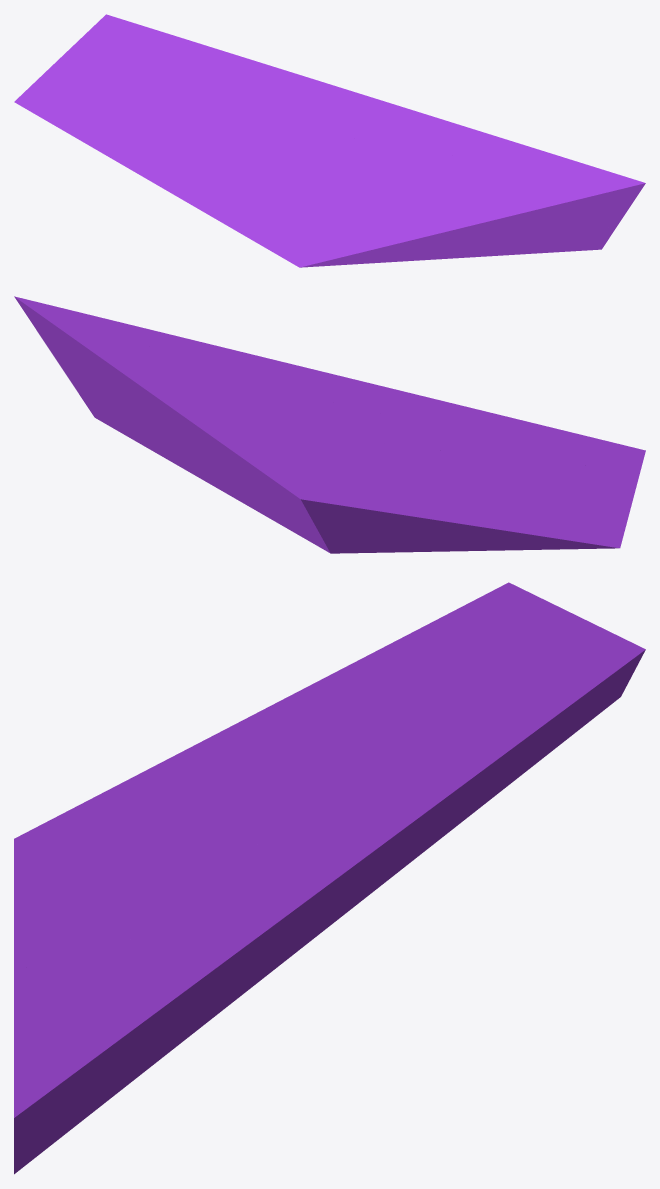
The model's file is Window_164_3_chunks.fbx.
3 renders of one model, top to bottom at view 1: azimuth 30°, elevation 25°; view 2: azimuth 150°, elevation 25°; view 3: azimuth 270°, elevation 25°, orthographic. The views are drawn at different scales.
Visible parts, largest first — view 1: Window_164_3_0, Window_164_3_1, Window_164_3_3, Window_164_3_8, Window_164_3_6, Window_164_3_2, Window_164_3_5, Window_164_3_9; view 2: Window_164_3_0, Window_164_3_1, Window_164_3_3, Window_164_3_2, Window_164_3_6, Window_164_3_5, Window_164_3_8, Window_164_3_9; view 3: Window_164_3_0, Window_164_3_1, Window_164_3_3, Window_164_3_2, Window_164_3_6, Window_164_3_5, Window_164_3_8, Window_164_3_9.
Part boxes in pixels (x1,y1,x2,y2): Window_164_3_0: [14, 14, 307, 148]; Window_164_3_1: [293, 73, 645, 249]; Window_164_3_3: [240, 131, 366, 267]; Window_164_3_8: [459, 175, 629, 257]; Window_164_3_6: [322, 181, 462, 266]; Window_164_3_2: [90, 146, 272, 233]; Window_164_3_5: [305, 129, 547, 183]; Window_164_3_9: [406, 172, 554, 207]; Window_164_3_0: [201, 429, 626, 553]; Window_164_3_1: [14, 296, 314, 509]; Window_164_3_3: [323, 412, 645, 470]; Window_164_3_2: [403, 446, 640, 522]; Window_164_3_6: [304, 376, 601, 439]; Window_164_3_5: [112, 335, 366, 431]; Window_164_3_8: [44, 303, 352, 379]; Window_164_3_9: [107, 333, 311, 395]; Window_164_3_0: [278, 582, 645, 847]; Window_164_3_1: [14, 812, 428, 1174]; Window_164_3_3: [14, 786, 297, 885]; Window_164_3_2: [116, 650, 377, 803]; Window_164_3_6: [14, 857, 154, 967]; Window_164_3_5: [86, 828, 299, 1035]; Window_164_3_8: [14, 967, 75, 1104]; Window_164_3_9: [56, 918, 140, 1040].
Bounding box in the file's own units: 882 × 296 × 606.
